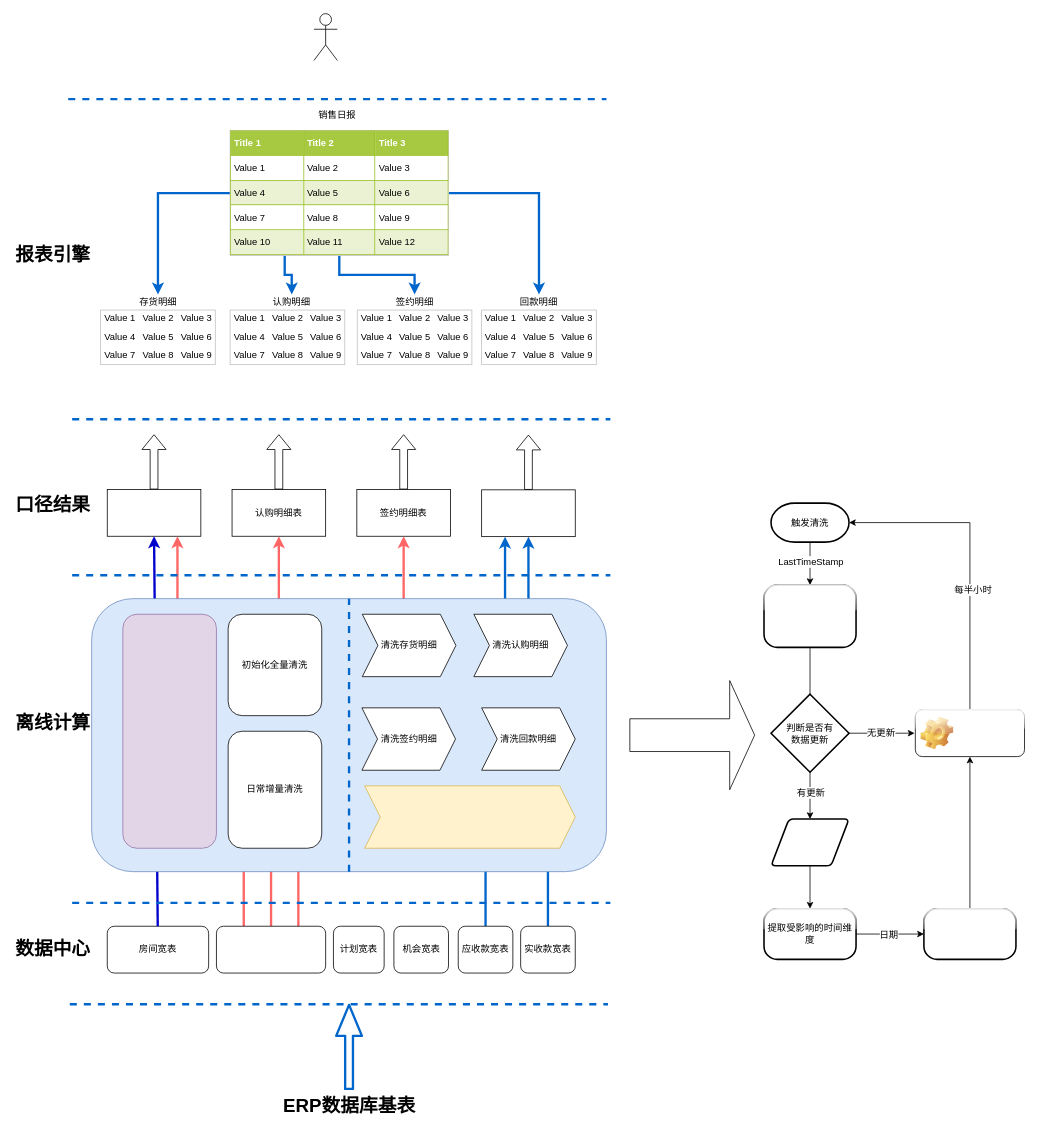
This 1038x1135 diagram has some shape labels left out. Here are the shapes that lost their labels. From the top down, the centre of each, then its label:
the point at 325,36: Actor
the point at 153,512: 存货明细表
the point at 528,513: 回款明细表
the point at 809,616: 对比宽表中的VersionNumber筛选出大于LastTimeStamp的数据行
the point at 169,730: SQL Server 代理
the point at 970,733: 定时任务
the point at 469,816: 清洗汇总表
the point at 809,842: 新变更过的数据
the point at 271,949: 交易宽表
the point at 969,934: 清洗对应日期的数据，并覆盖对应数据行
